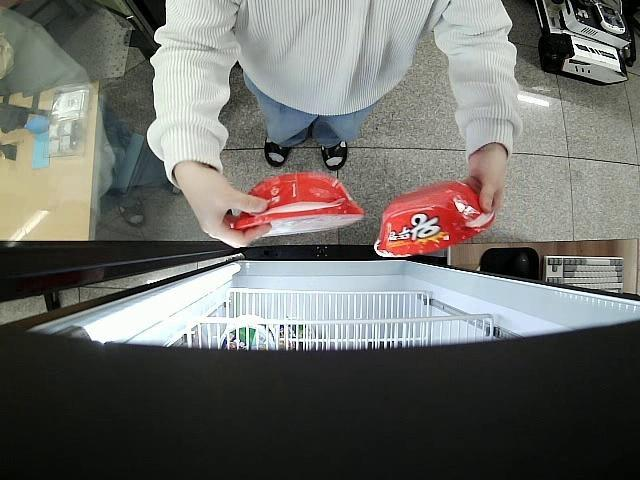10_wangTtukkeong: (228, 174, 368, 241), (374, 182, 494, 256)
